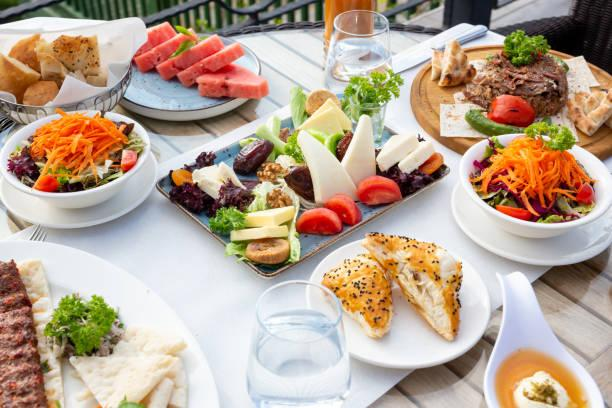Braised Crucian Carp: (157, 107, 440, 276), (414, 40, 612, 160), (310, 238, 488, 369), (453, 133, 611, 264), (2, 110, 159, 234), (0, 16, 139, 109), (116, 32, 258, 120)
